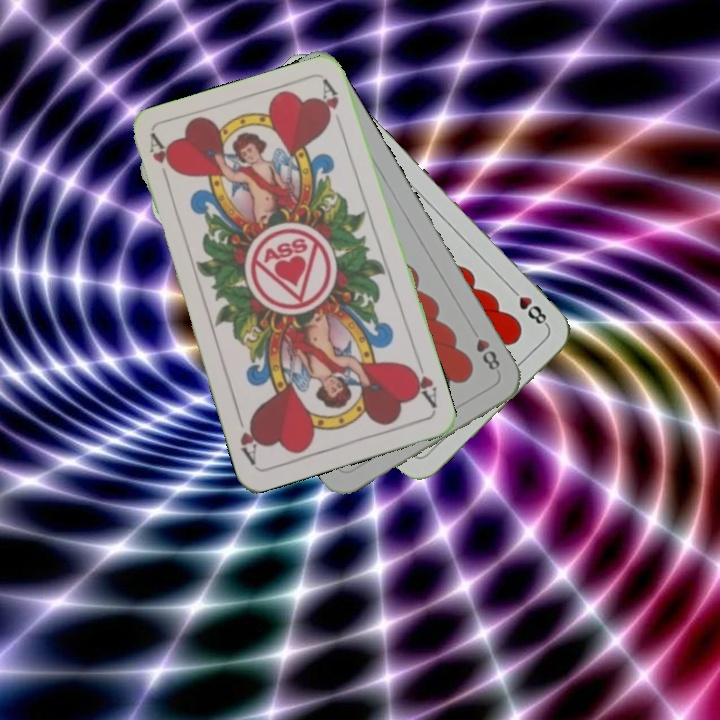H8: (505, 282, 551, 329), (466, 323, 503, 373)
HA: (404, 354, 440, 411), (145, 132, 179, 190)
